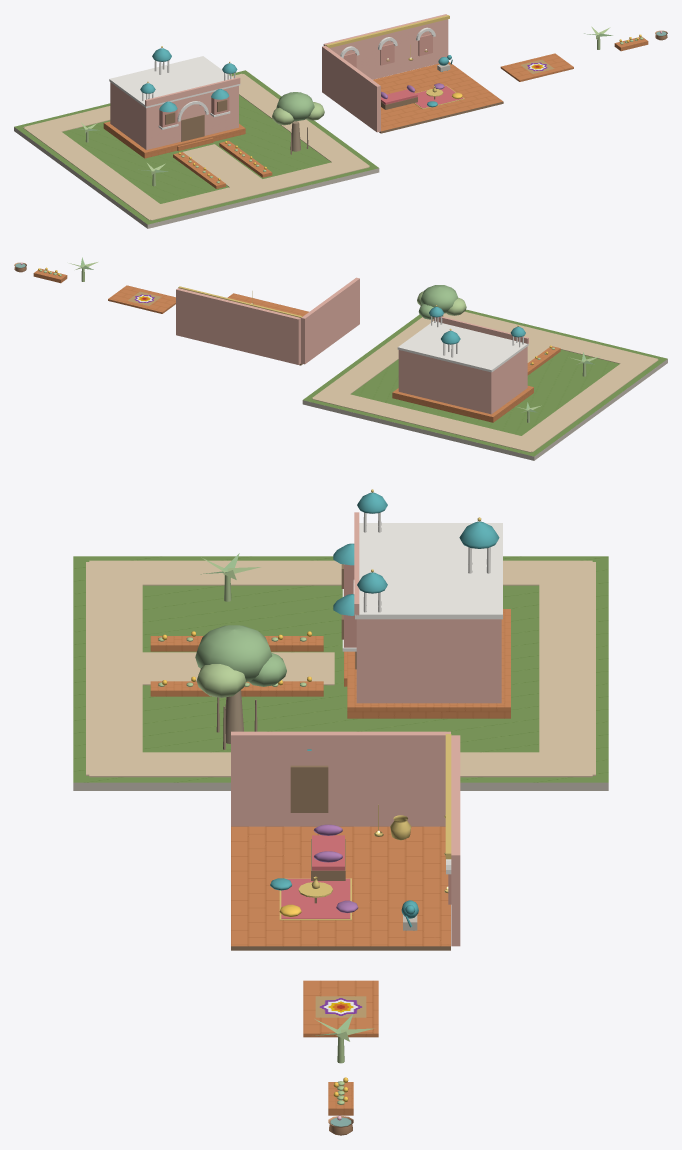
File: kit-37-diorama-india.glb
The picture shows the model from 3 angles, top to bottom: view 1: azimuth 30°, elevation 25°; view 2: azimuth 150°, elevation 25°; view 3: azimuth 270°, elevation 25°; orthographic projection. The views are drawn at different scales.
Visible parts, largest first — view 1: IndiaDio_Eksterior, IndiaDio_InteriorLengkap, IndiaDio_JalanRangoli, IndiaDio_TanamanKhas; view 2: IndiaDio_Eksterior, IndiaDio_InteriorLengkap, IndiaDio_JalanRangoli, IndiaDio_TanamanKhas; view 3: IndiaDio_Eksterior, IndiaDio_InteriorLengkap, IndiaDio_JalanRangoli, IndiaDio_TanamanKhas.
Boxes of the visible parts, bbox=[...] form: IndiaDio_Eksterior: bbox=[14, 46, 379, 228]; IndiaDio_InteriorLengkap: bbox=[322, 14, 503, 133]; IndiaDio_JalanRangoli: bbox=[500, 53, 573, 81]; IndiaDio_TanamanKhas: bbox=[584, 26, 667, 51]; IndiaDio_Eksterior: bbox=[302, 285, 667, 460]; IndiaDio_InteriorLengkap: bbox=[176, 277, 359, 365]; IndiaDio_JalanRangoli: bbox=[108, 285, 175, 313]; IndiaDio_TanamanKhas: bbox=[14, 257, 97, 283]; IndiaDio_Eksterior: bbox=[73, 489, 608, 790]; IndiaDio_InteriorLengkap: bbox=[231, 731, 460, 950]; IndiaDio_JalanRangoli: bbox=[303, 980, 378, 1037]; IndiaDio_TanamanKhas: bbox=[315, 1014, 373, 1135].
Bounding box in the file's own units: 43.02 × 5.63 × 17.
21 materials, 3 textured.
